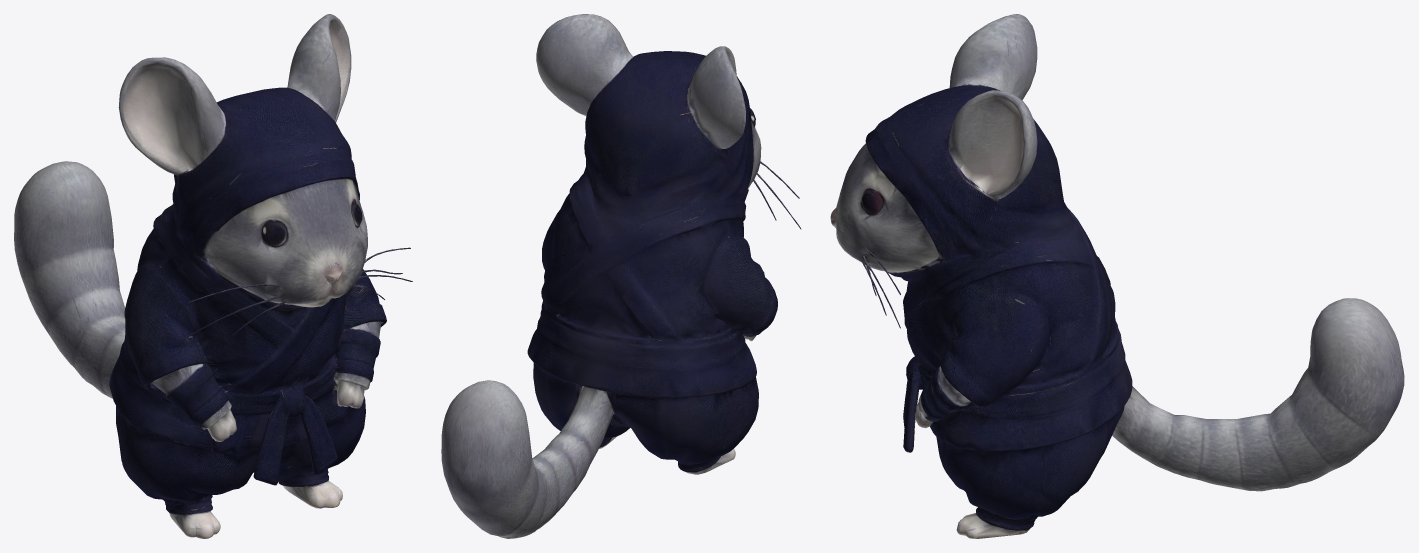
Rendered from costume-ninja_chinchilla-gray.glb.
3 views of the same model, side by side, from view 1: azimuth 30°, elevation 25°; view 2: azimuth 150°, elevation 25°; view 3: azimuth 270°, elevation 25° (orthographic). The views are drawn at different scales.
Visible parts, largest first — view 1: Mesh_0; view 2: Mesh_0; view 3: Mesh_0.
Boxes of the visible parts, box(x1,y1,x2,y2) form: Mesh_0: box(14, 14, 412, 538); Mesh_0: box(441, 14, 801, 538); Mesh_0: box(830, 14, 1404, 538).
Size of the model in its own units: 0.8724 by 1.64 by 1.9.
1 material, 1 textured.
